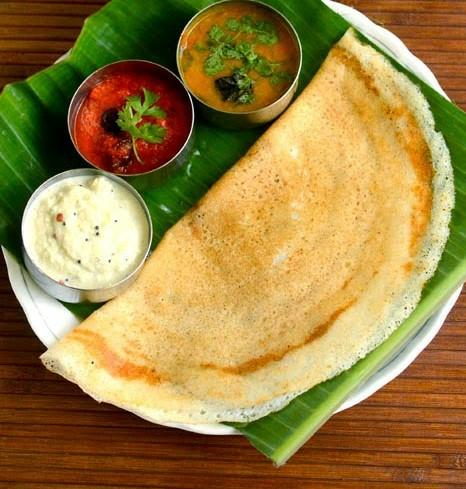CoconutChutney: (24, 176, 147, 288)
Dosa: (41, 27, 455, 423)
